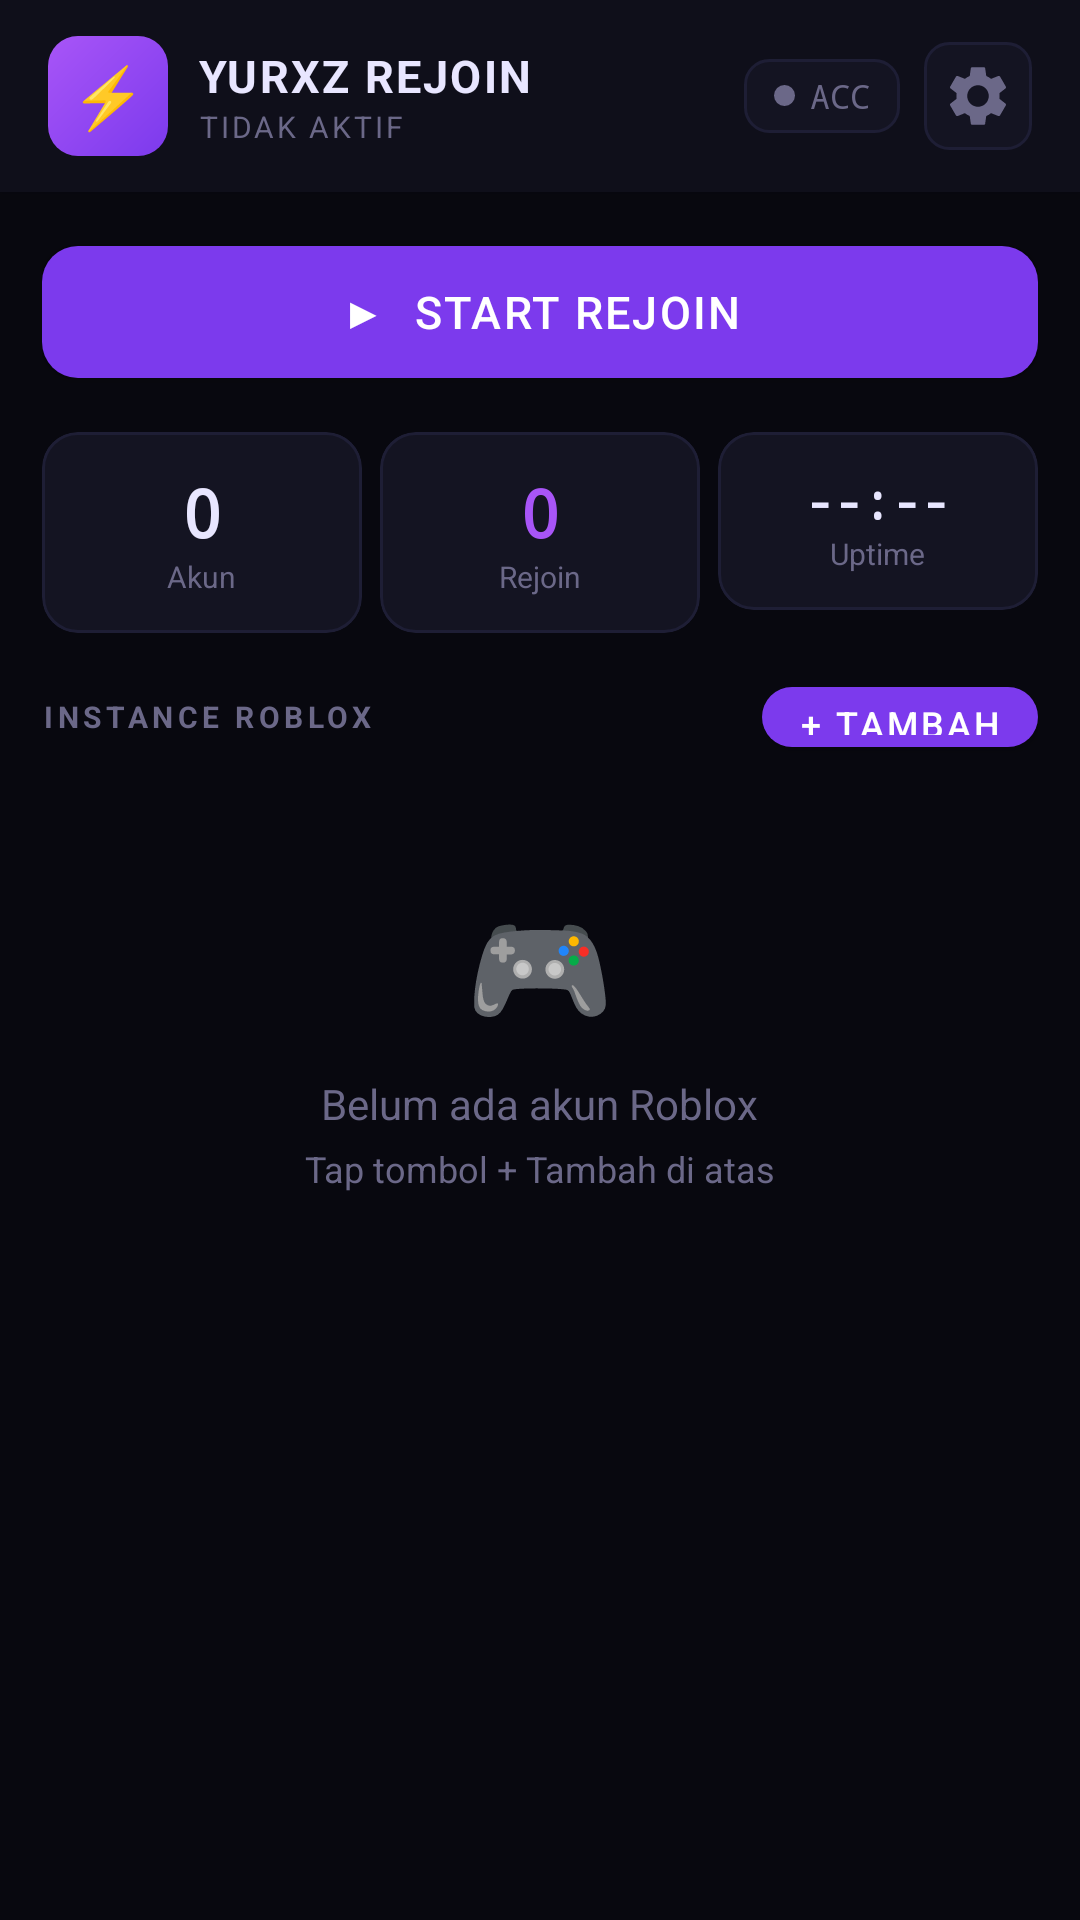

Icon bounding boxes for this 1080*1920 phone screenshot, format bbox(x1, y1, x2, y2):
Settings: bbox(924, 42, 1032, 150)
